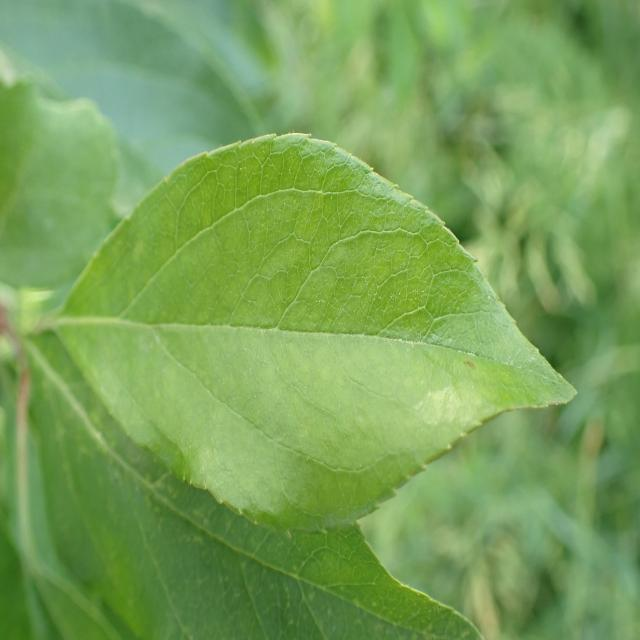healthy: (52, 131, 578, 534), (26, 327, 487, 640)
